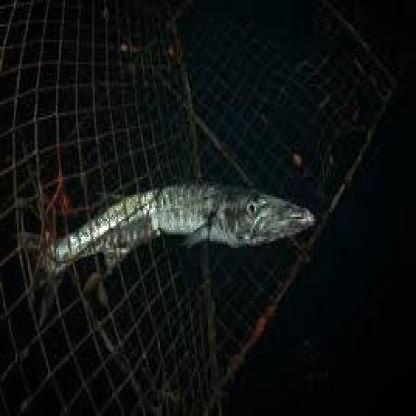net: (2, 24, 222, 416)
